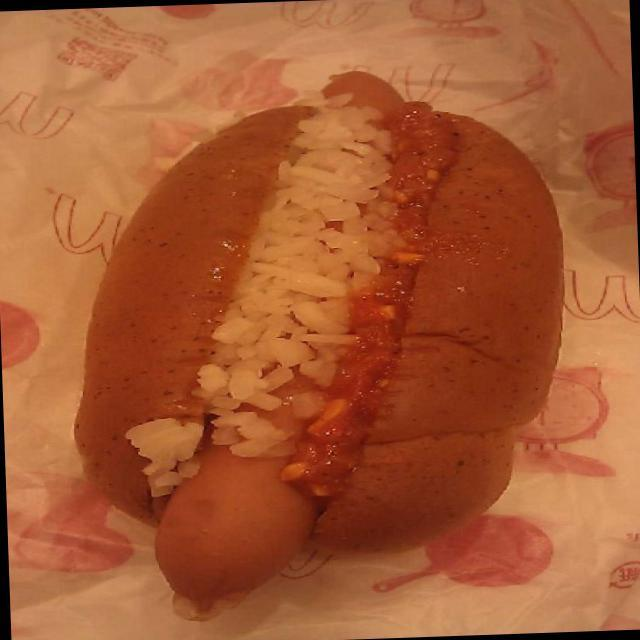Hot Dog: (41, 42, 586, 638)
